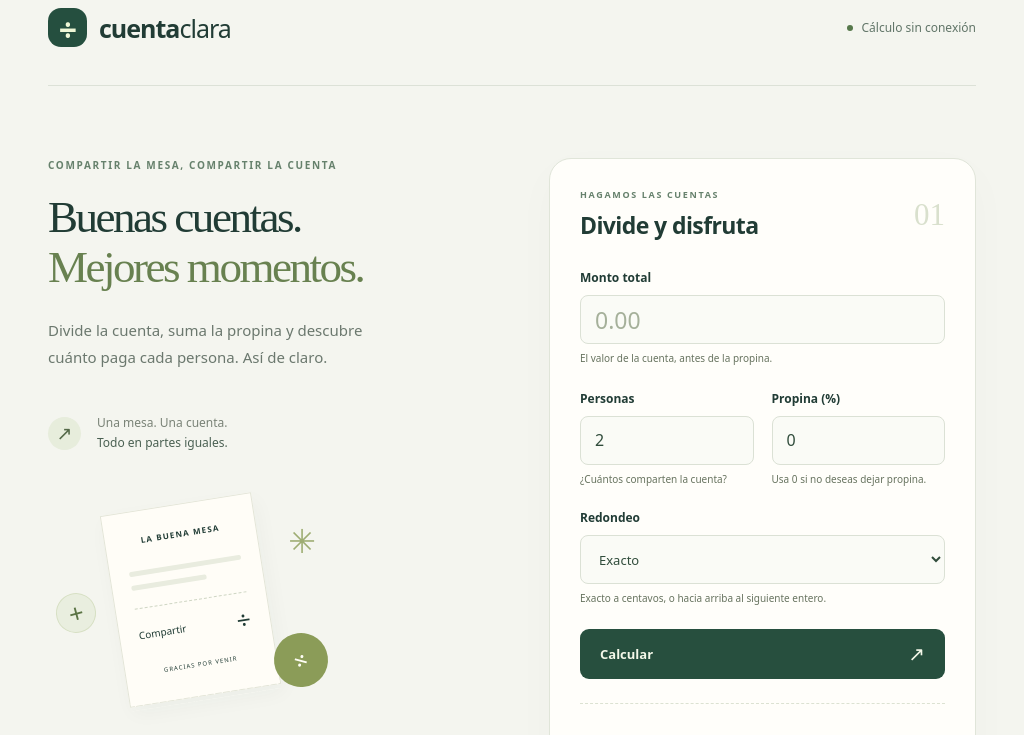
Scenario: Rechaza monto textual 12abc completo
The image size is (1024, 735).
Type "12abc" into the field labelled "Monto total" at (762, 320), box [580,295,945,344]
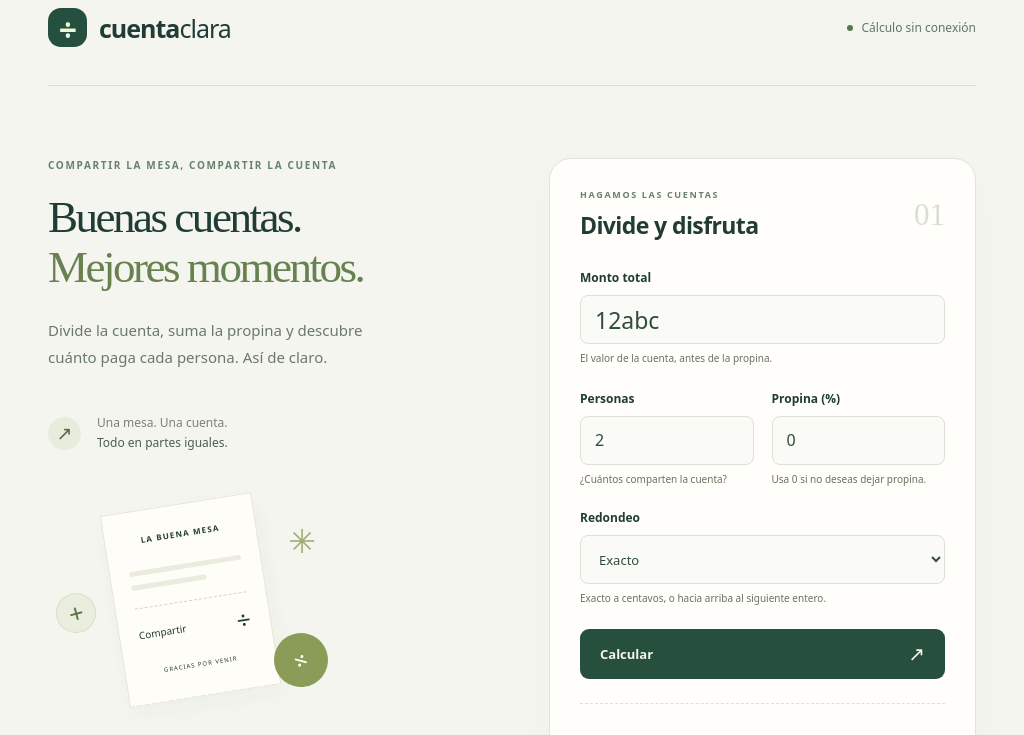
Click the button "Calcular ↗" at (627, 654), box [580,628,945,678]
(page scrolled)
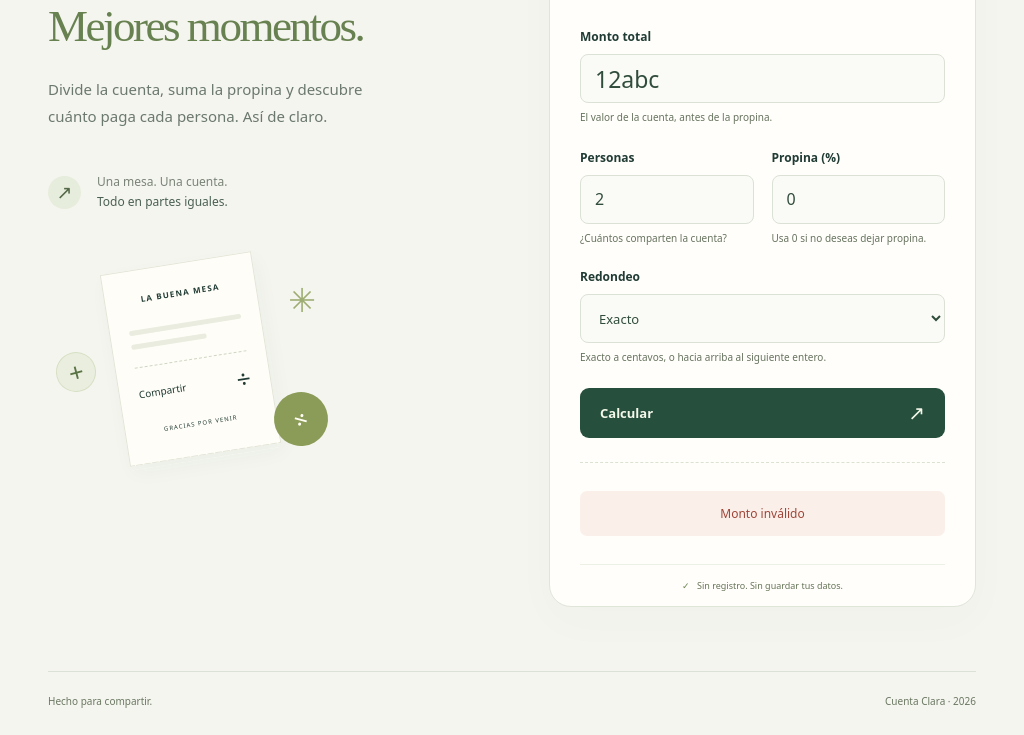
Result: the message reads "Monto inválido" at [720,504,805,522]
